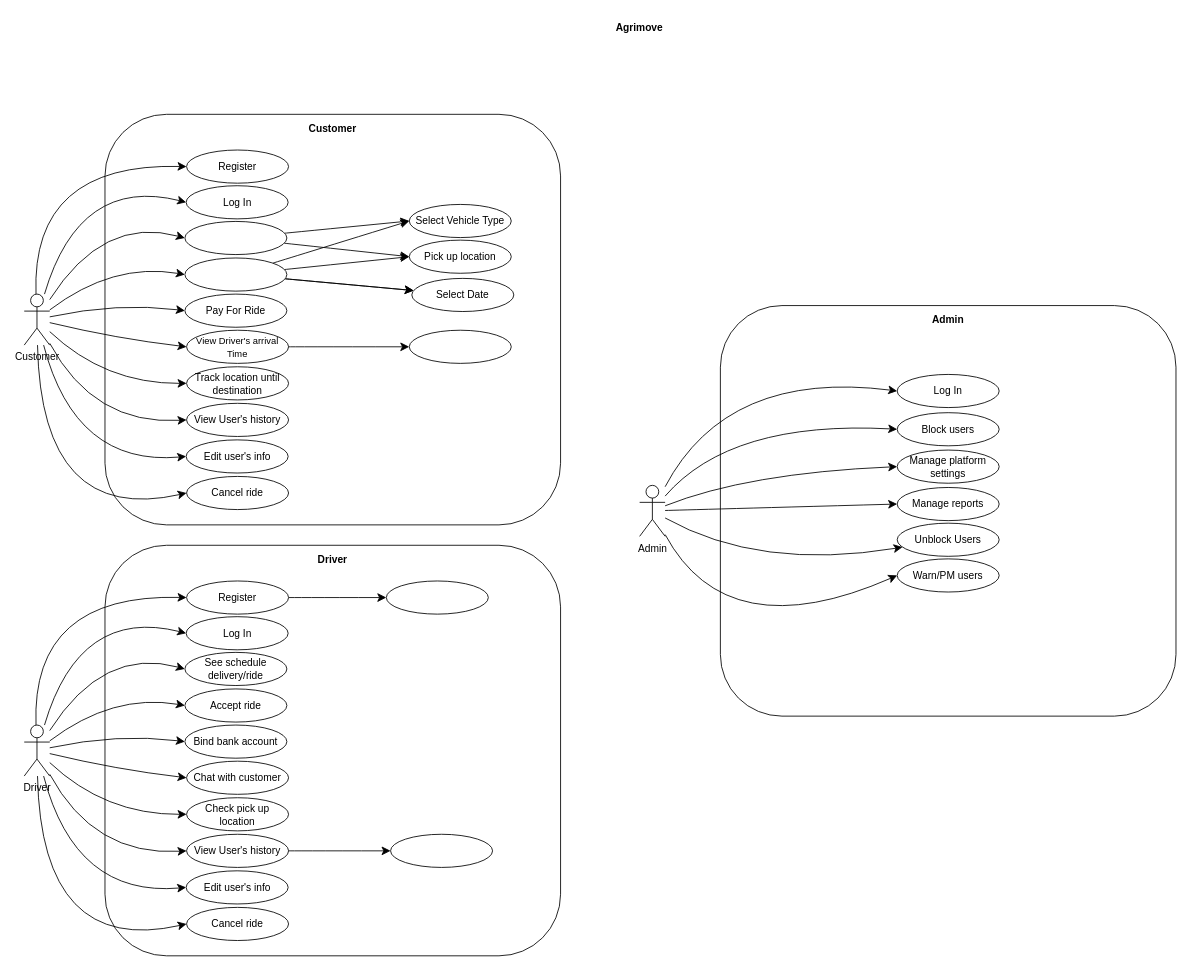
The diagram is 1191 pixels wide and 971 high, and some of its shapes have lost their labels. The centre of each missing label's shape, as x and y in pixels:
Call for a delivery: (235,238)
Chat with driver: (459,346)
Input vehicles info for registration: (436,597)
Schedule For a delivery: (235,274)
View statistics: (441,850)
